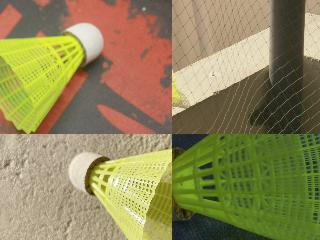shuttlecock: (172, 134, 319, 239), (0, 22, 103, 133), (68, 144, 171, 239), (172, 68, 181, 98)
